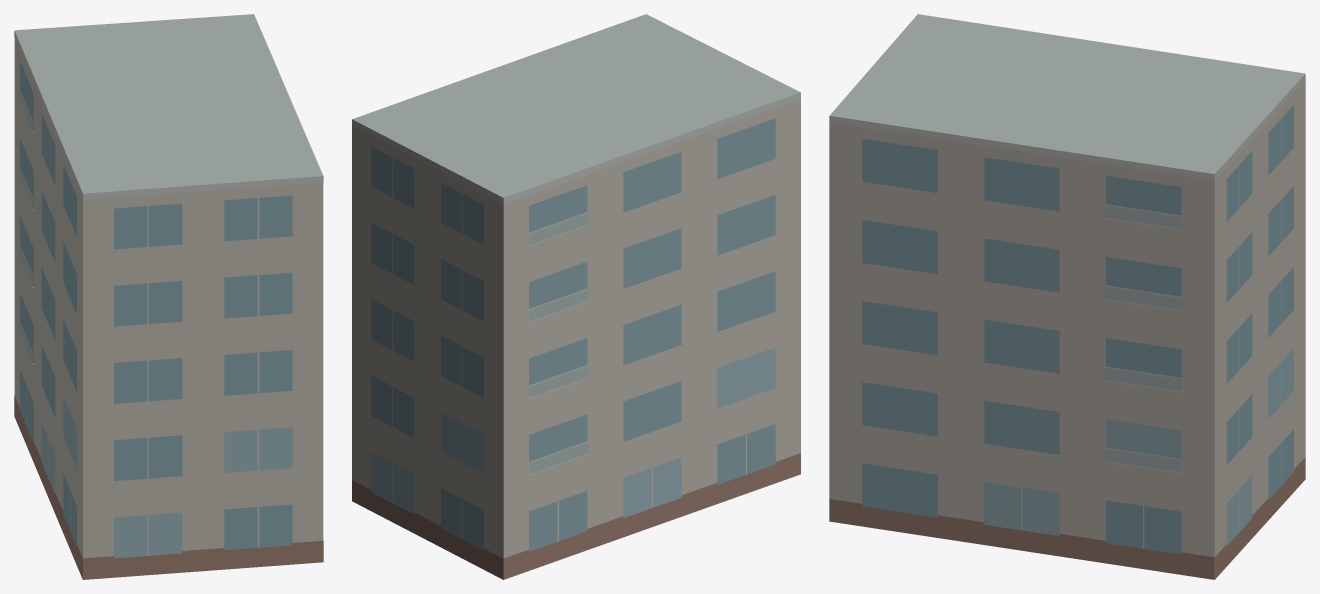
The model's file is survey-upis-32889273.glb.
The picture shows the model from 3 angles, left to right: view 1: azimuth 30°, elevation 25°; view 2: azimuth 150°, elevation 25°; view 3: azimuth 270°, elevation 25°; orthographic projection. The views are drawn at different scales.
Visible parts, largest first — view 1: survey-upis-32889273.tmp; view 2: survey-upis-32889273.tmp; view 3: survey-upis-32889273.tmp.
Boxes of the visible parts, box(x1,y1,x2,y2) form: survey-upis-32889273.tmp: box(14, 14, 323, 579); survey-upis-32889273.tmp: box(352, 14, 800, 579); survey-upis-32889273.tmp: box(829, 14, 1305, 579).
Size of the model in its own units: 12.62 by 14.9 by 15.86.
